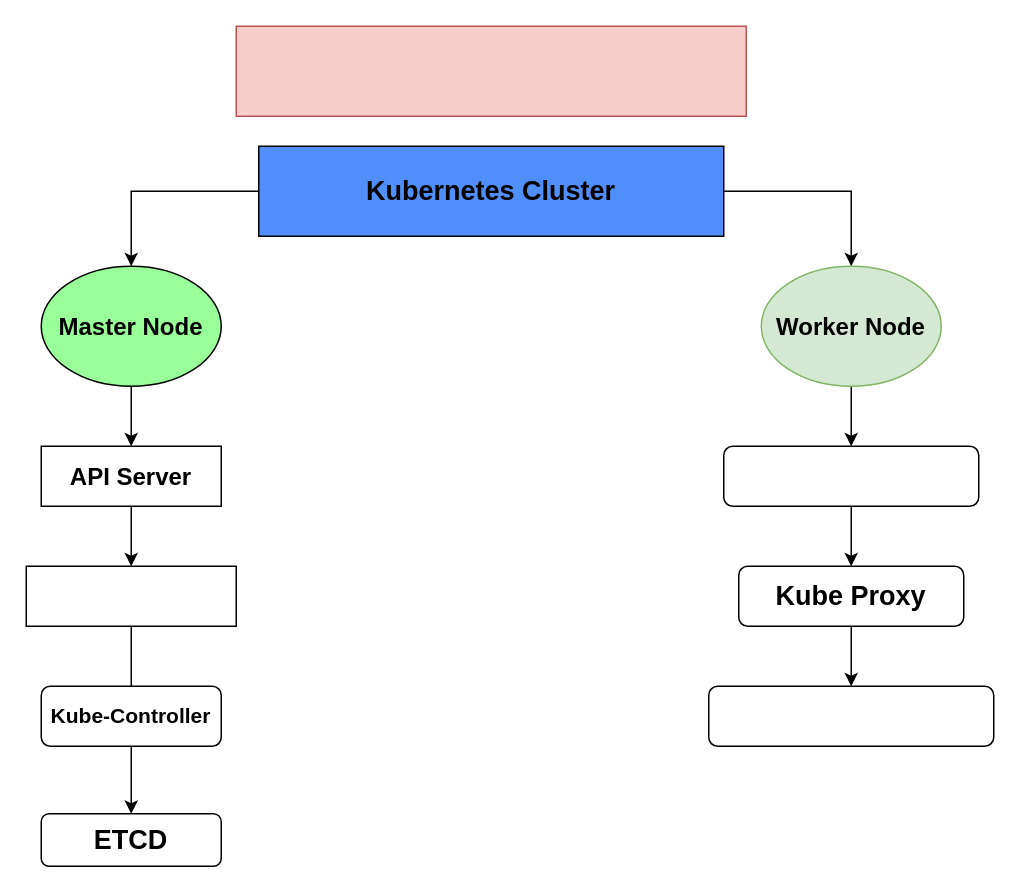
Image size: 1020x893. Some labels were removed from this diagram. Here are the shapes that lost their labels. From the top down, the box of each, then its label:
(235, 25, 746, 116): KUBERNETES ARCHITECTURE
(722, 445, 979, 506): Kubelet
(25, 565, 236, 626): Kube scheduler
(707, 685, 994, 746): Container Run Time
